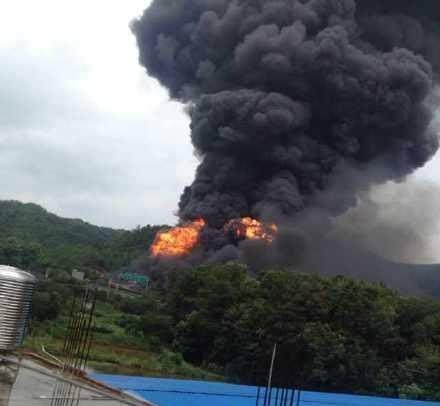fire: (149, 215, 202, 254), (231, 214, 277, 238)
